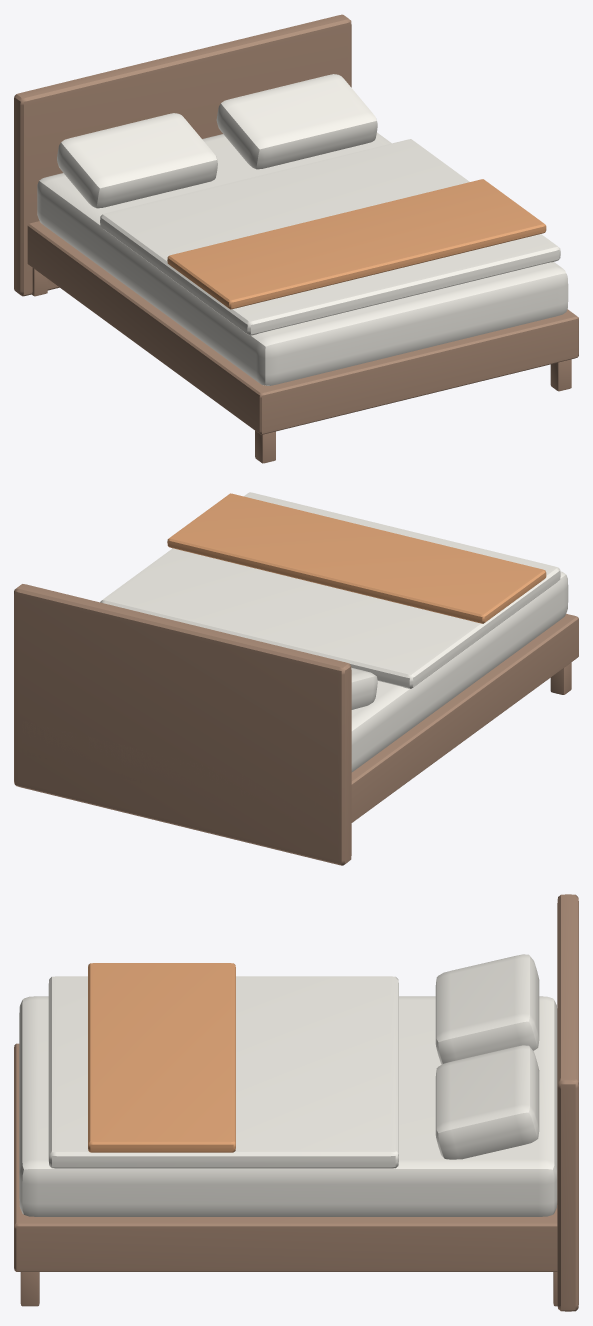
File: bed-queen.glb
3 views of the same model, one above another, from view 1: azimuth 30°, elevation 25°; view 2: azimuth 150°, elevation 25°; view 3: azimuth 270°, elevation 25° (orthographic). The views are drawn at different scales.
Parts seen in each view (by area): view 1: Cube.006, Cube.009, Cube.004, Cube.005, Cube.010, Cube.008, Cube.007, Cube.003, Cube.001; view 2: Cube.005, Cube.009, Cube.010, Cube.004, Cube.006, Cube.007, Cube.001; view 3: Cube.006, Cube.009, Cube.004, Cube.010, Cube.008, Cube.007, Cube.005, Cube.003.
Part boxes in pixels (x1,y1,x2,y2): Cube.006: [37, 132, 568, 385]; Cube.009: [100, 139, 560, 335]; Cube.004: [27, 221, 578, 434]; Cube.005: [14, 14, 351, 296]; Cube.010: [167, 179, 546, 309]; Cube.008: [216, 74, 377, 169]; Cube.007: [57, 113, 217, 208]; Cube.003: [550, 359, 571, 391]; Cube.001: [255, 431, 275, 463]; Cube.005: [14, 584, 351, 865]; Cube.009: [100, 492, 560, 688]; Cube.010: [167, 493, 546, 623]; Cube.004: [22, 613, 578, 826]; Cube.006: [351, 571, 568, 772]; Cube.007: [351, 667, 377, 709]; Cube.001: [550, 662, 571, 694]; Cube.006: [19, 996, 557, 1216]; Cube.009: [48, 976, 398, 1168]; Cube.004: [14, 1043, 557, 1271]; Cube.010: [88, 963, 235, 1152]; Cube.008: [435, 1045, 539, 1159]; Cube.007: [435, 954, 539, 1064]; Cube.005: [557, 894, 578, 1311]; Cube.003: [20, 1272, 39, 1306].
Size of the model in its own units: 1.66 by 0.95 by 2.1.
